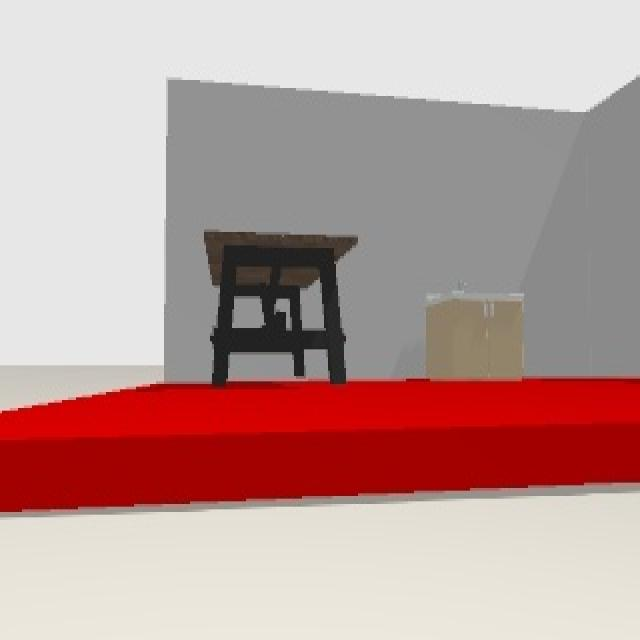dining: (208, 226, 358, 386)
